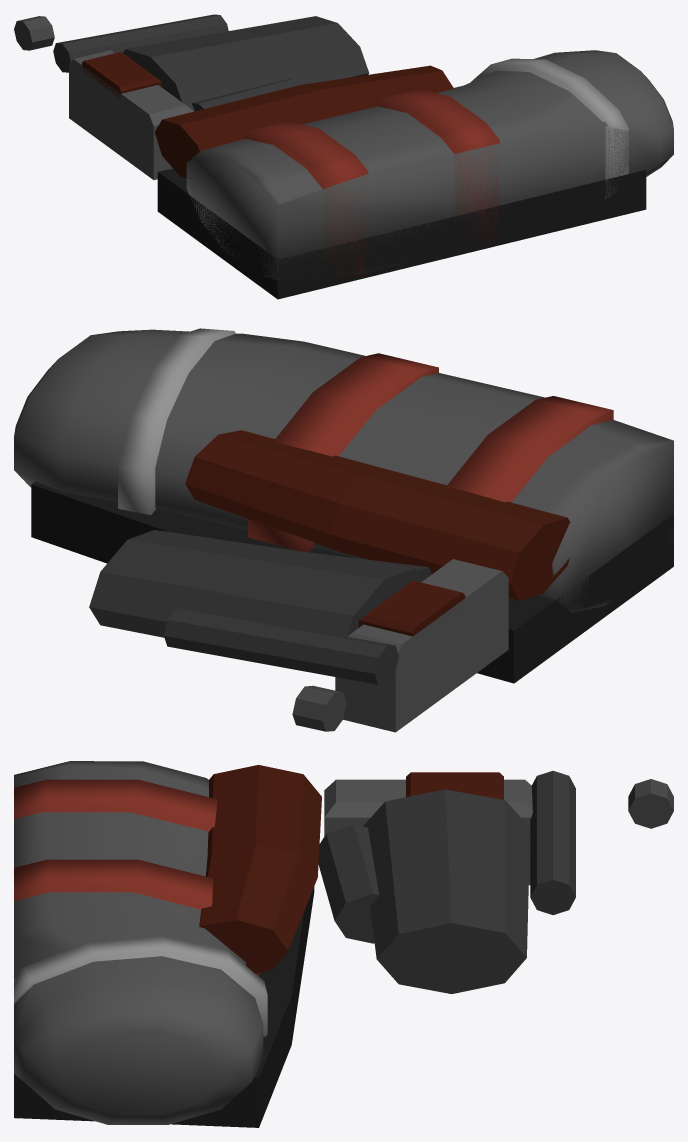
The model's file is newsh-caret-89.glb.
The picture shows the model from 3 angles, top to bottom: view 1: azimuth 30°, elevation 25°; view 2: azimuth 150°, elevation 25°; view 3: azimuth 270°, elevation 25°; orthographic projection. The views are drawn at different scales.
Parts seen in each view (by area): view 1: newsh-caret-89; view 2: newsh-caret-89; view 3: newsh-caret-89.
Part boxes in pixels (box(x1,y1,x2,y2)): newsh-caret-89: box(14, 14, 673, 299); newsh-caret-89: box(14, 328, 673, 732); newsh-caret-89: box(14, 761, 673, 1127).
Size of the model in its own units: 1.52 by 0.4253 by 1.68.
